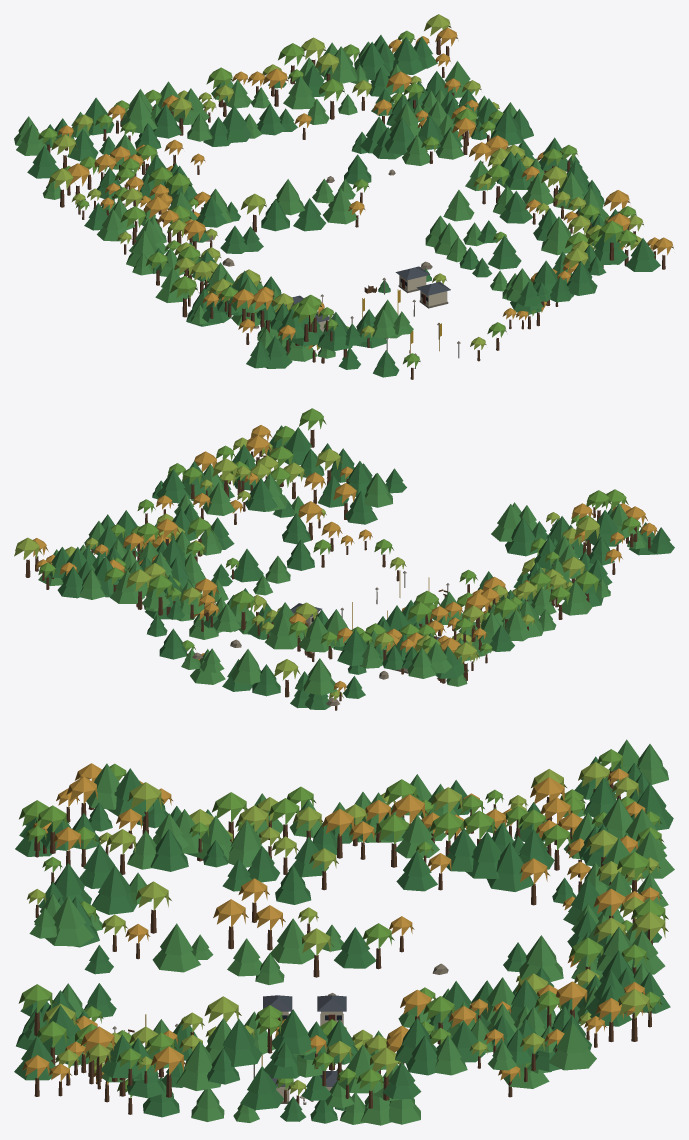
Rendered from pass-v2-props.glb.
3 renders of one model, top to bottom at view 1: azimuth 30°, elevation 25°; view 2: azimuth 150°, elevation 25°; view 3: azimuth 270°, elevation 25°, orthographic. The views are drawn at different scales.
Parts seen in each view (by area): view 1: V2Props; view 2: V2Props; view 3: V2Props.
Boxes of the visible parts, bbox=[...] form: V2Props: bbox=[14, 14, 673, 379]; V2Props: bbox=[14, 408, 674, 710]; V2Props: bbox=[14, 739, 674, 1125].
Size of the model in its own units: 84.52 by 28.99 by 85.21.
